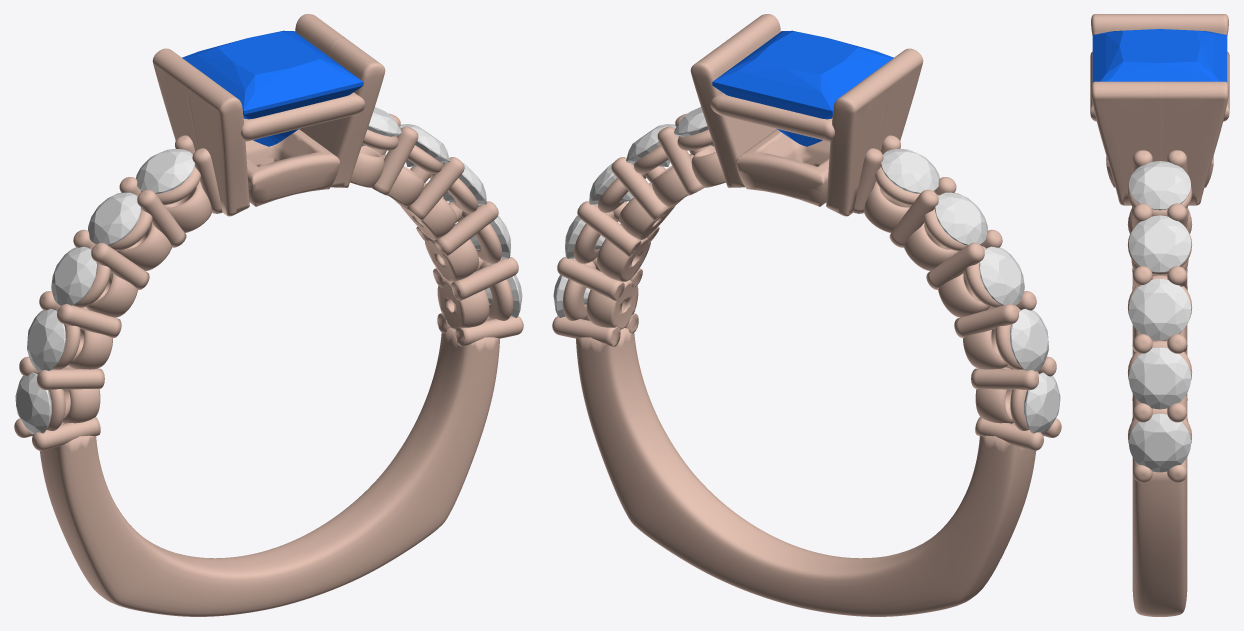
File: bluesapphire-princess-rosegold-halfmoonbezel-europeanshank-11stone.glb
3 views of the same model, side by side, from view 1: azimuth 30°, elevation 25°; view 2: azimuth 150°, elevation 25°; view 3: azimuth 270°, elevation 25° (orthographic). The views are drawn at different scales.
Visible parts, largest first — view 1: metal, stone, side.004, side.003, side.005, side.002, side, side.007; view 2: metal, stone, side.004, side.003, side.005, side.002, side, side.007; view 3: metal, stone, side.009, side.008, side.007, side.001, side.006.
Part boxes in pixels (box(x1,y1,x2,y2)): metal: box(14, 14, 523, 616); stone: box(182, 30, 363, 146); side.004: box(88, 192, 140, 245); side.003: box(51, 246, 96, 305); side.005: box(136, 149, 194, 193); side.002: box(27, 308, 66, 371); side: box(15, 372, 51, 434); side.007: box(399, 124, 449, 166); metal: box(552, 14, 1061, 616); stone: box(712, 30, 893, 146); side.004: box(935, 192, 987, 245); side.003: box(979, 246, 1024, 305); side.005: box(881, 149, 939, 193); side.002: box(1009, 308, 1048, 371); side: box(1024, 372, 1060, 434); side.007: box(626, 124, 676, 166); metal: box(1090, 14, 1229, 616); stone: box(1092, 29, 1227, 82); side.009: box(1129, 347, 1190, 409); side.008: box(1129, 279, 1190, 340); side.007: box(1129, 215, 1190, 272); side.001: box(1129, 413, 1190, 472); side.006: box(1129, 161, 1190, 210).
Size of the model in its own units: 22.23 by 23.65 by 5.6.
